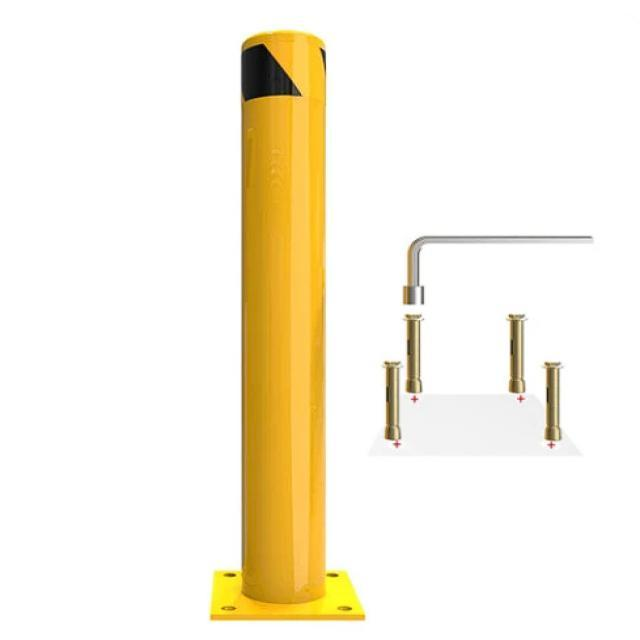obstacle: (234, 28, 330, 602)
